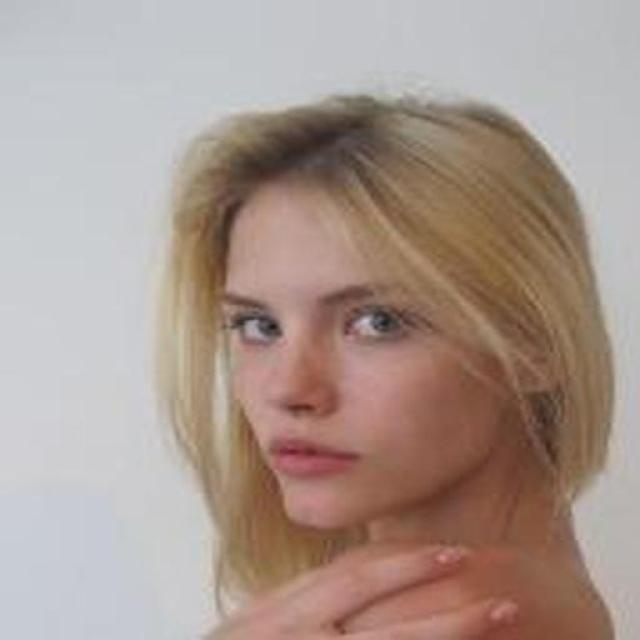bareface: (198, 86, 519, 526)
